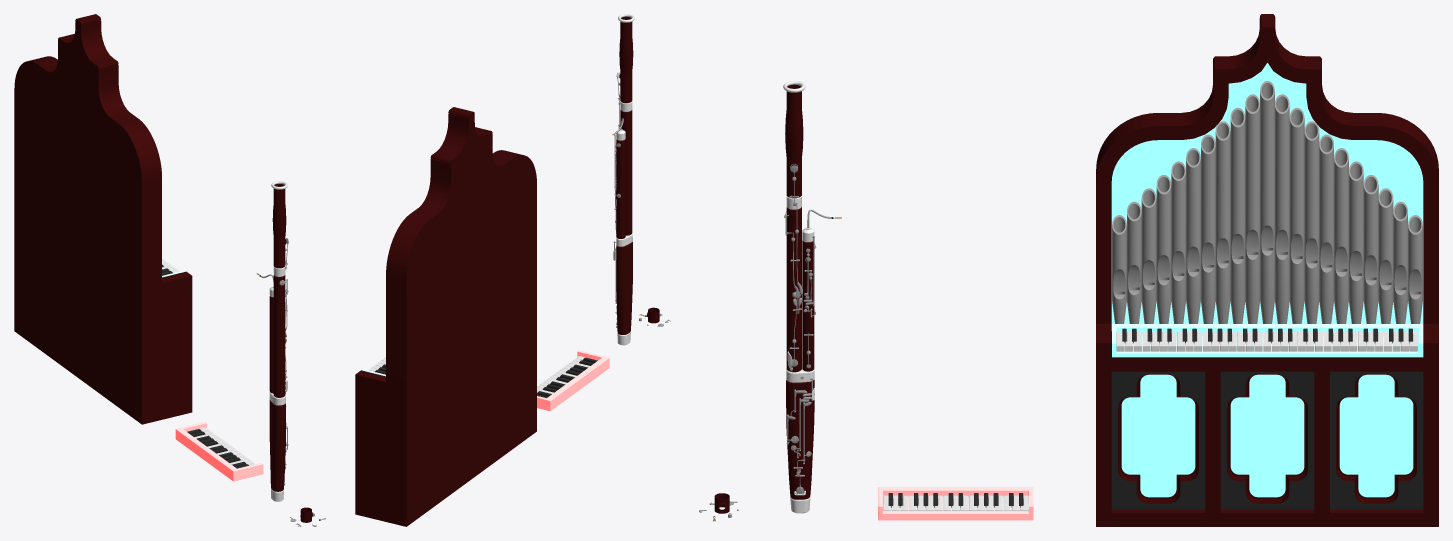
The model's file is bassoon_and_pipe_organ.glb.
3 views of the same model, side by side, from view 1: azimuth 30°, elevation 25°; view 2: azimuth 150°, elevation 25°; view 3: azimuth 270°, elevation 25° (orthographic). The views are drawn at different scales.
Parts seen in each view (by area): view 1: Pipe Organ_10, Bassoon_8, Mini Keyboard_12; view 2: Pipe Organ_10, Bassoon_8, Mini Keyboard_12; view 3: Pipe Organ_10, Piano Keys_11, Bassoon_8, Mini Keyboard_12.
Part boxes in pixels (x1=…): Pipe Organ_10: x1=14, y1=14, x2=192, y2=424; Bassoon_8: x1=256, y1=181, x2=288, y2=501; Mini Keyboard_12: x1=175, y1=421, x2=263, y2=481; Pipe Organ_10: x1=355, y1=107, x2=536, y2=526; Bassoon_8: x1=612, y1=14, x2=634, y2=345; Mini Keyboard_12: x1=537, y1=350, x2=609, y2=411; Pipe Organ_10: x1=1096, y1=14, x2=1438, y2=526; Piano Keys_11: x1=1112, y1=324, x2=1423, y2=357; Bassoon_8: x1=783, y1=81, x2=841, y2=513; Mini Keyboard_12: x1=878, y1=487, x2=1033, y2=520.
Bounding box in the file's own units: 10 × 68.14 × 94.97.
Materials: 11 (1 with a texture image).
